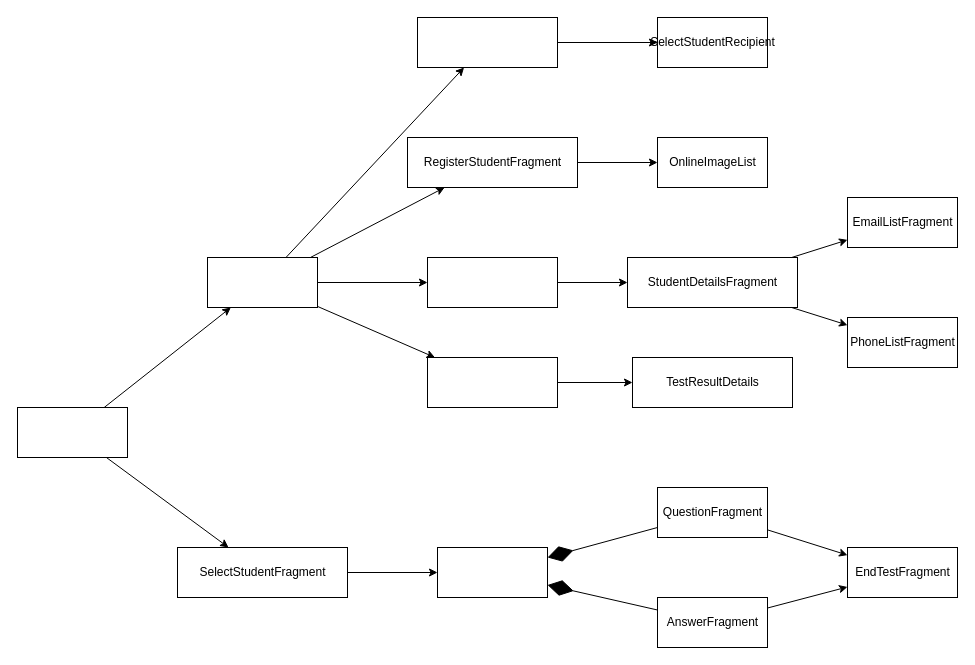
The diagram is 975 pixels wide and 665 high, and some of its shapes have lost their labels. Each missing label, with the box of its shape:
LoginFragment: (16, 406, 128, 458)
SelectTestResultToSend: (416, 16, 558, 68)
StudentListFragment: (426, 256, 558, 308)
TeacherFragment: (206, 256, 318, 308)
TestFragment: (436, 546, 548, 598)
TestResultsListFragment: (426, 356, 558, 408)
